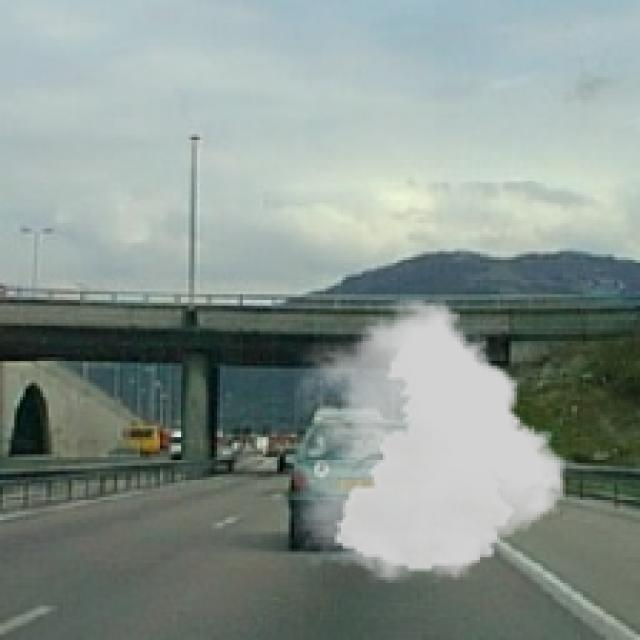smoke: (294, 300, 566, 583)
